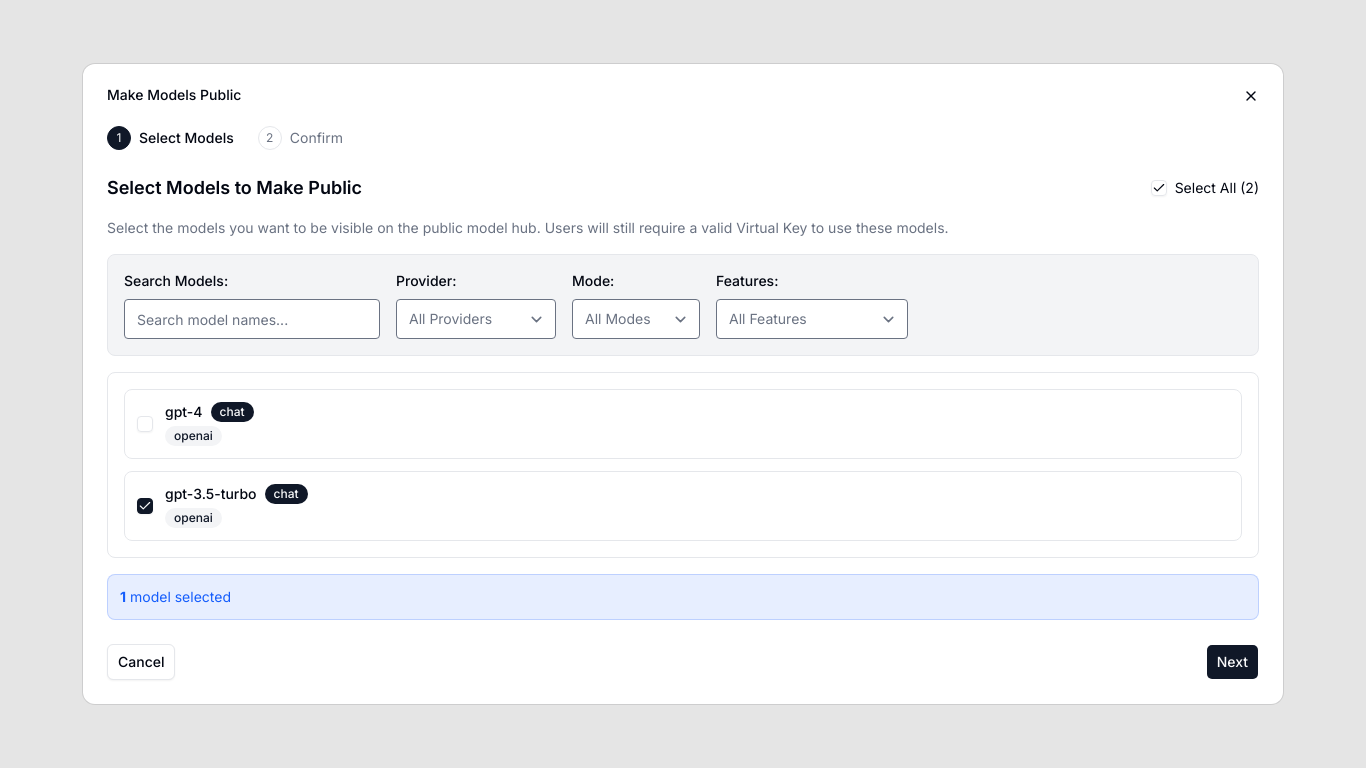
Scenario: MakeModelPublicForm › should handle select all functionality
The image size is (1366, 768).
# Select all
Click the checkbox next to "Select All": click(1159, 188) [1151,180,1167,196]
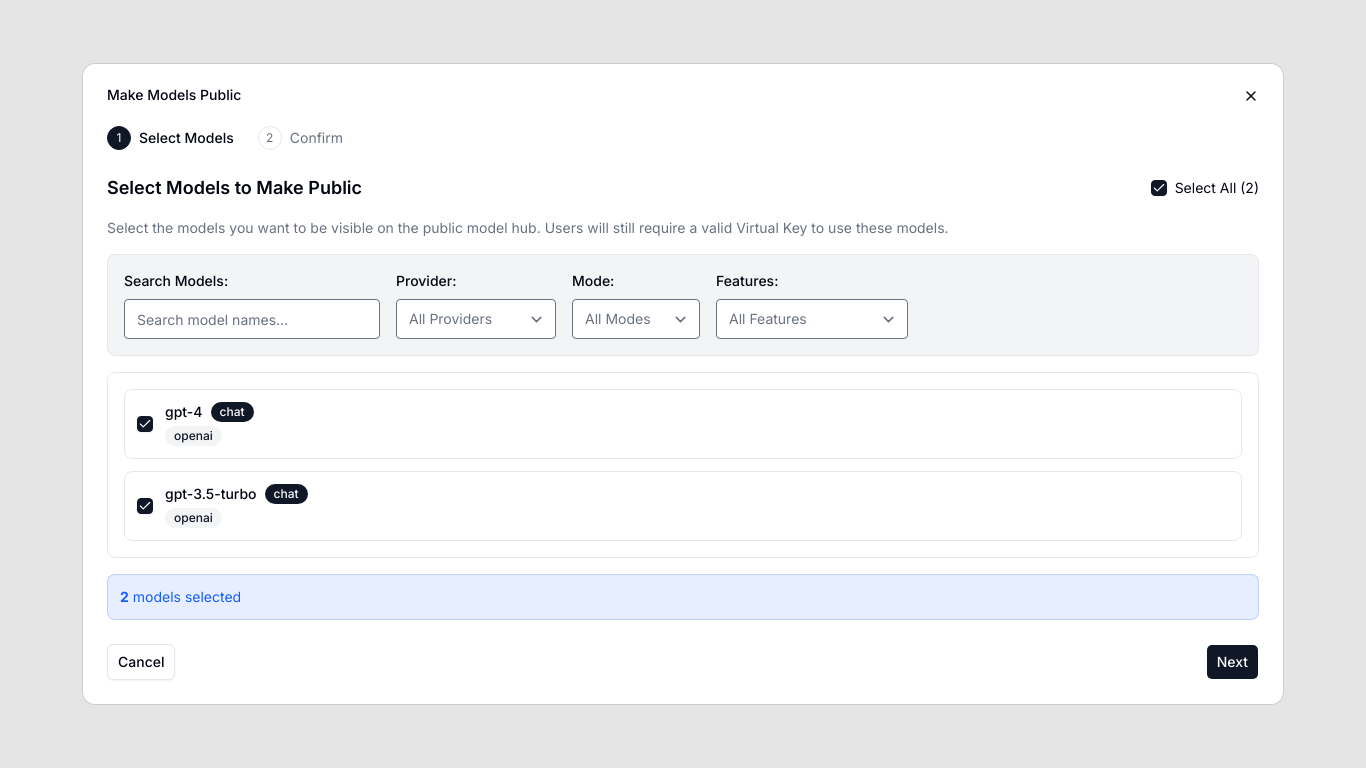
Check: the checkbox next to "gpt-3.5-turbo" is checked, box [137,498,153,514]
Check: the checkbox next to "Select All" is checked
Check: the checkbox next to "gpt-4" is checked, box [137,416,153,432]
# Deselect all
Click the checkbox next to "Select All": click(1159, 188) [1151,180,1167,196]
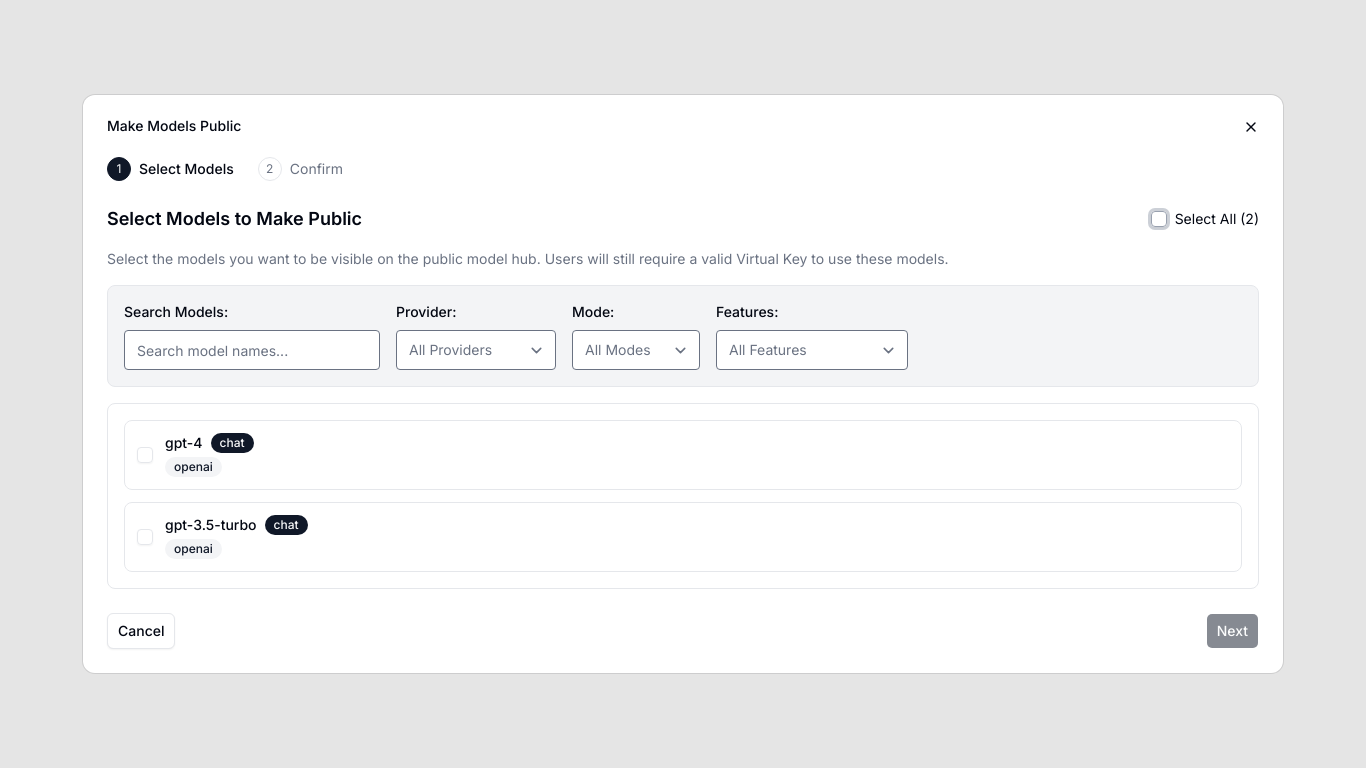
Check: the checkbox next to "Select All" is not checked, box [1151,211,1167,227]
Check: the checkbox next to "gpt-4" is not checked, box [137,447,153,463]
Check: the checkbox next to "gpt-3.5-turbo" is not checked, box [137,529,153,545]
